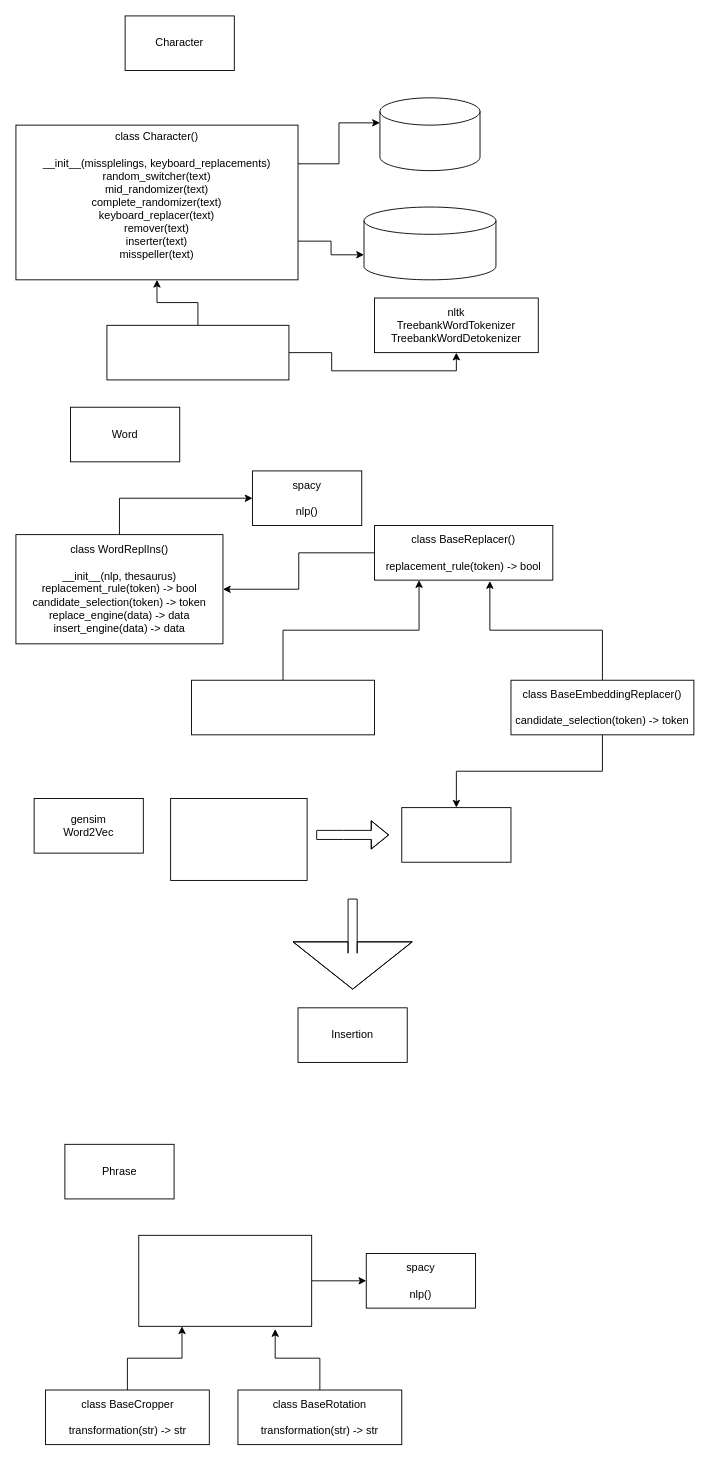
Some shapes in this 710 by 1461 pixel diagram are drawn without their labels. The shapes that lost their labels are listed below. From the top down, each one's centre as x and y in pixels, then its label:
pixel 429 134: misspellings
pixel 429 243: keyboard_replacements
pixel 197 352: replacement_engine(data) -> data
pixel 282 707: class BaseSynonymReplacer() candidate_selection(token) -> token
pixel 238 839: class Word2VecBuilder dataset __init__() build()
pixel 456 834: word2vec.model
pixel 225 1280: class Phrase() __init__(spacy.nlp) transformation(str) -> str engine(data)
